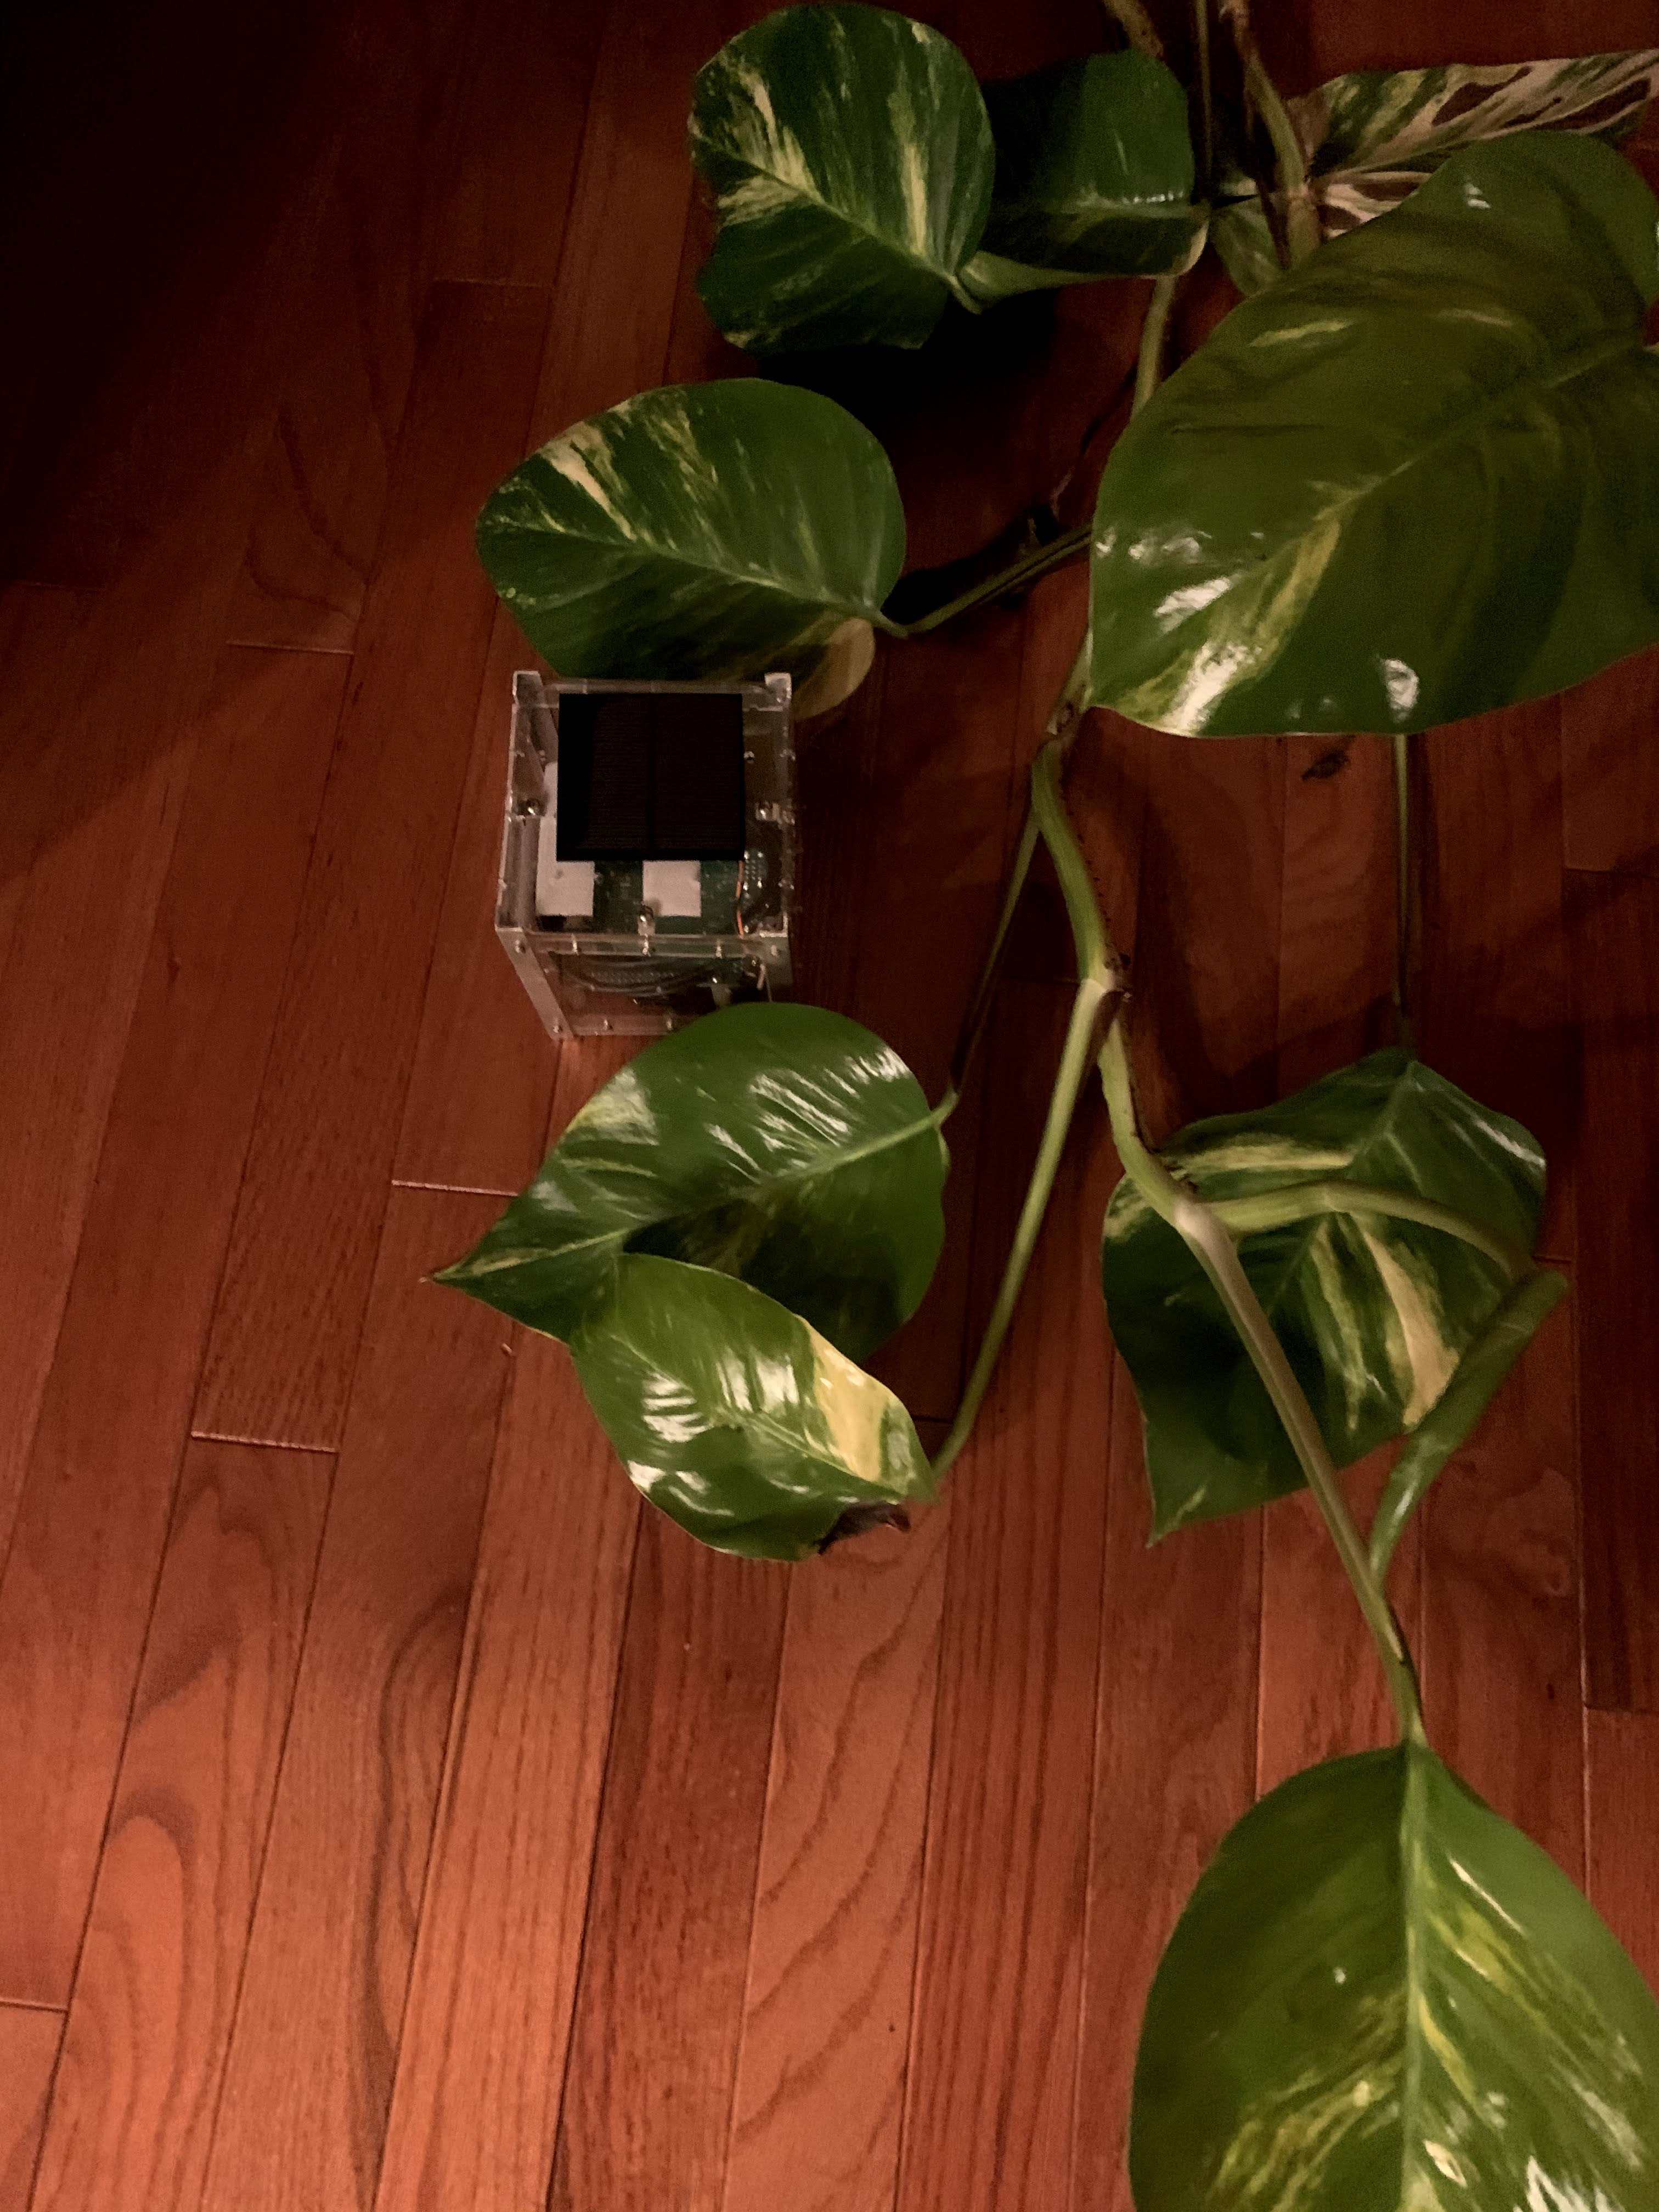Space-debris-cubesat: (469, 662, 824, 1052)
